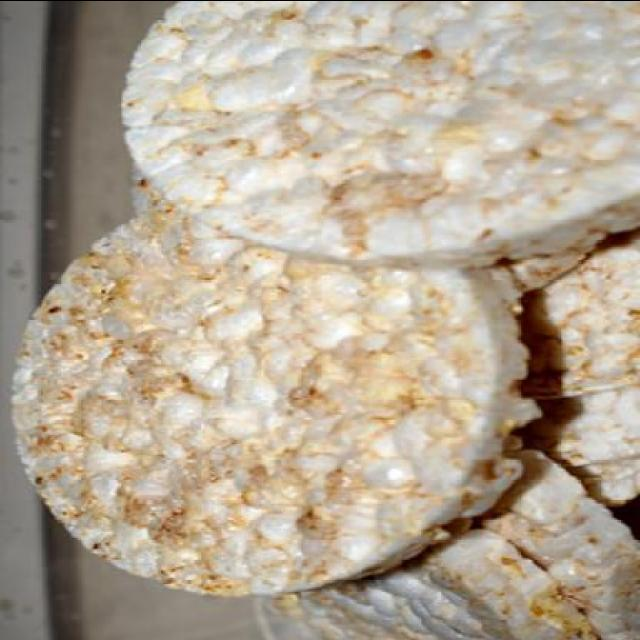Gallette di riso packaged: (17, 233, 534, 601), (111, 0, 640, 262)
